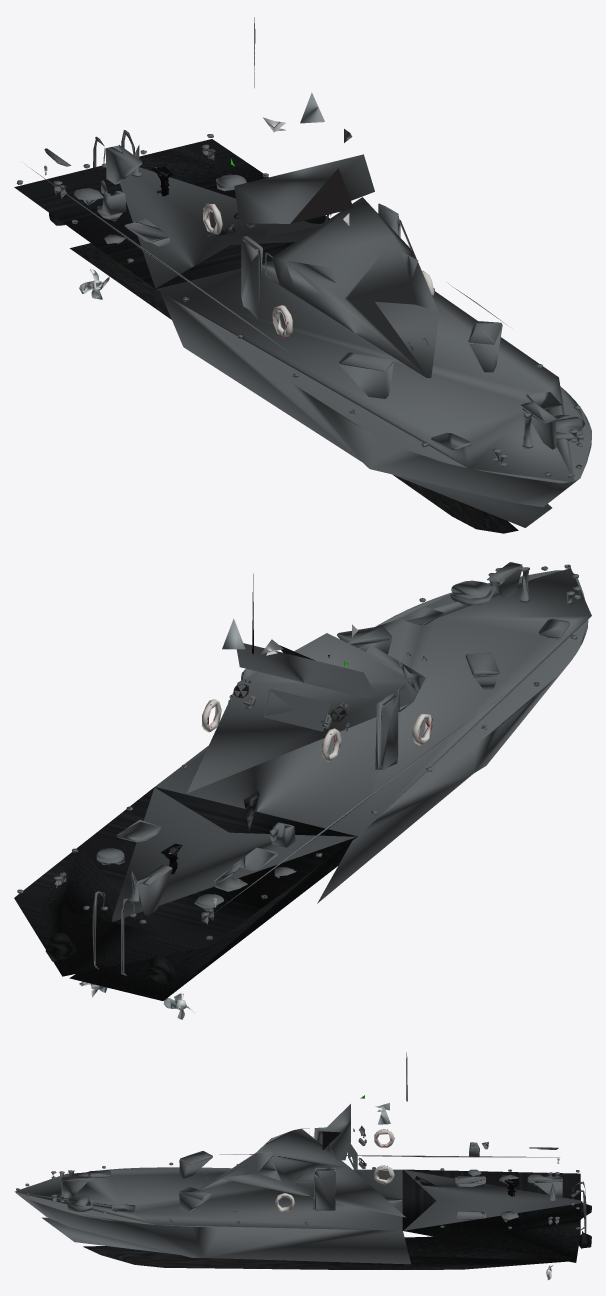
Rendered from ship_gunboat-lo.glb.
3 views of the same model, one above another, from view 1: azimuth 30°, elevation 25°; view 2: azimuth 150°, elevation 25°; view 3: azimuth 270°, elevation 25° (orthographic). The views are drawn at different scales.
Bounding box in the file's own units: 4.14 × 6.96 × 16.47.
Materials: 18 (12 with a texture image).
